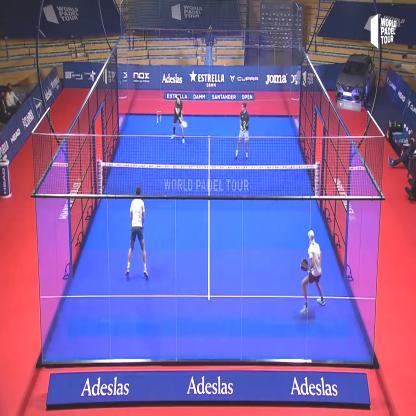ball: (157, 111, 162, 124)
